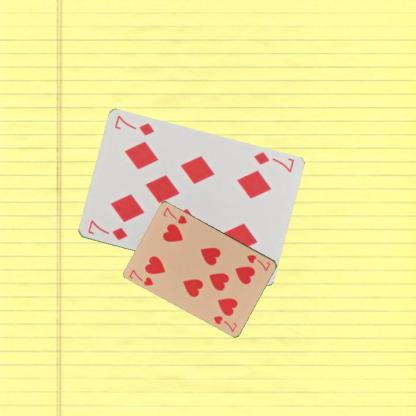7d: (251, 149, 295, 174), (85, 217, 128, 242)
7h: (126, 266, 155, 288), (244, 252, 272, 272)
